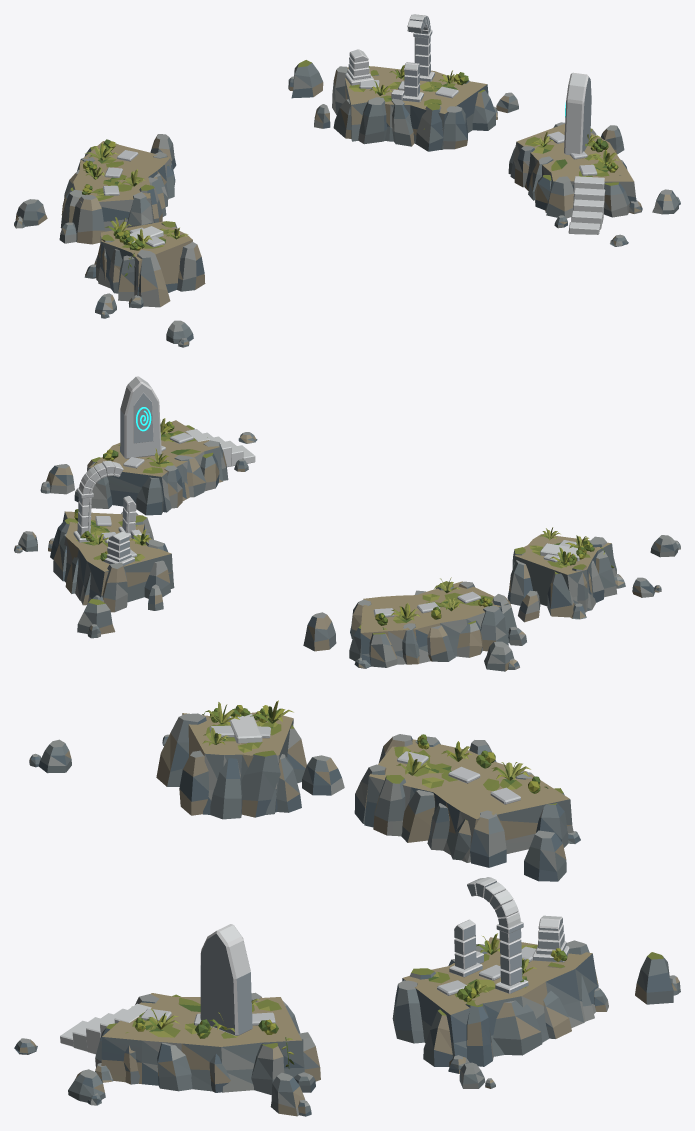
The model's file is timewell_depth_web.glb.
3 renders of one model, top to bottom at view 1: azimuth 30°, elevation 25°; view 2: azimuth 150°, elevation 25°; view 3: azimuth 270°, elevation 25°, orthographic. The views are drawn at different scales.
Parts seen in each view (by area): view 1: Static_Northeast, Static_EastStairs, Static_Northwest, Static_West, Static_Surrounding_Rocks; view 2: Static_Northwest, Static_EastStairs, Static_Northeast, Static_West, Static_Surrounding_Rocks; view 3: Static_Northeast, Static_EastStairs, Static_Northwest, Static_West, Static_Surrounding_Rocks.
Part boxes in pixels (x1,y1,x2,y2): Static_Northeast: (332,14,497,151); Static_EastStairs: (508,72,642,234); Static_Northwest: (59,139,175,244); Static_West: (84,217,205,308); Static_Surrounding_Rocks: (14,60,680,347); Static_Northwest: (349,577,526,668); Static_EastStairs: (74,376,255,515); Static_Northeast: (48,460,174,612); Static_West: (507,527,625,619); Static_Surrounding_Rocks: (14,423,680,671); Static_Northeast: (392,877,608,1073); Static_EastStairs: (60,924,320,1095); Static_Northwest: (354,734,580,867); Static_West: (156,700,306,819); Static_Surrounding_Rocks: (29,734,680,1116).
Size of the model in its own units: 22.19 by 4.1 by 16.65.
